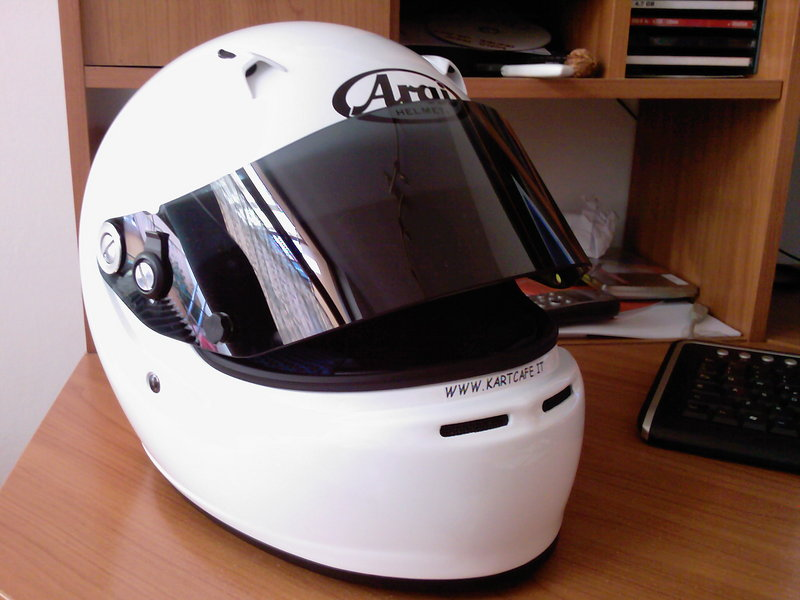helmet: (54, 11, 600, 586)
